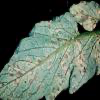Tomato Septoria leaf spot: (0, 7, 98, 99), (69, 2, 100, 31)
